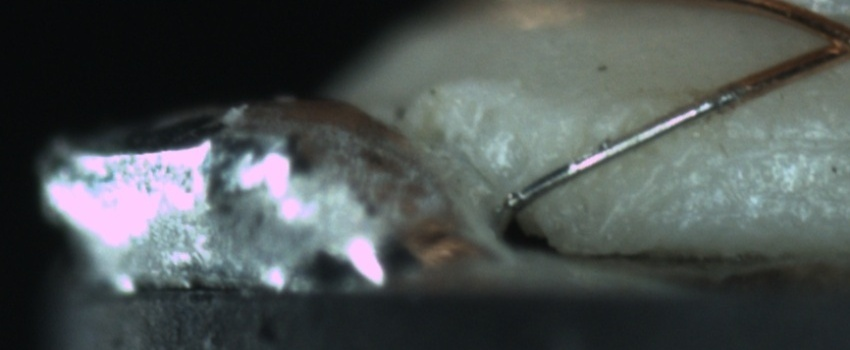CL: (800, 14, 850, 72)
DL: (676, 109, 849, 173)
TS: (496, 93, 731, 230)
